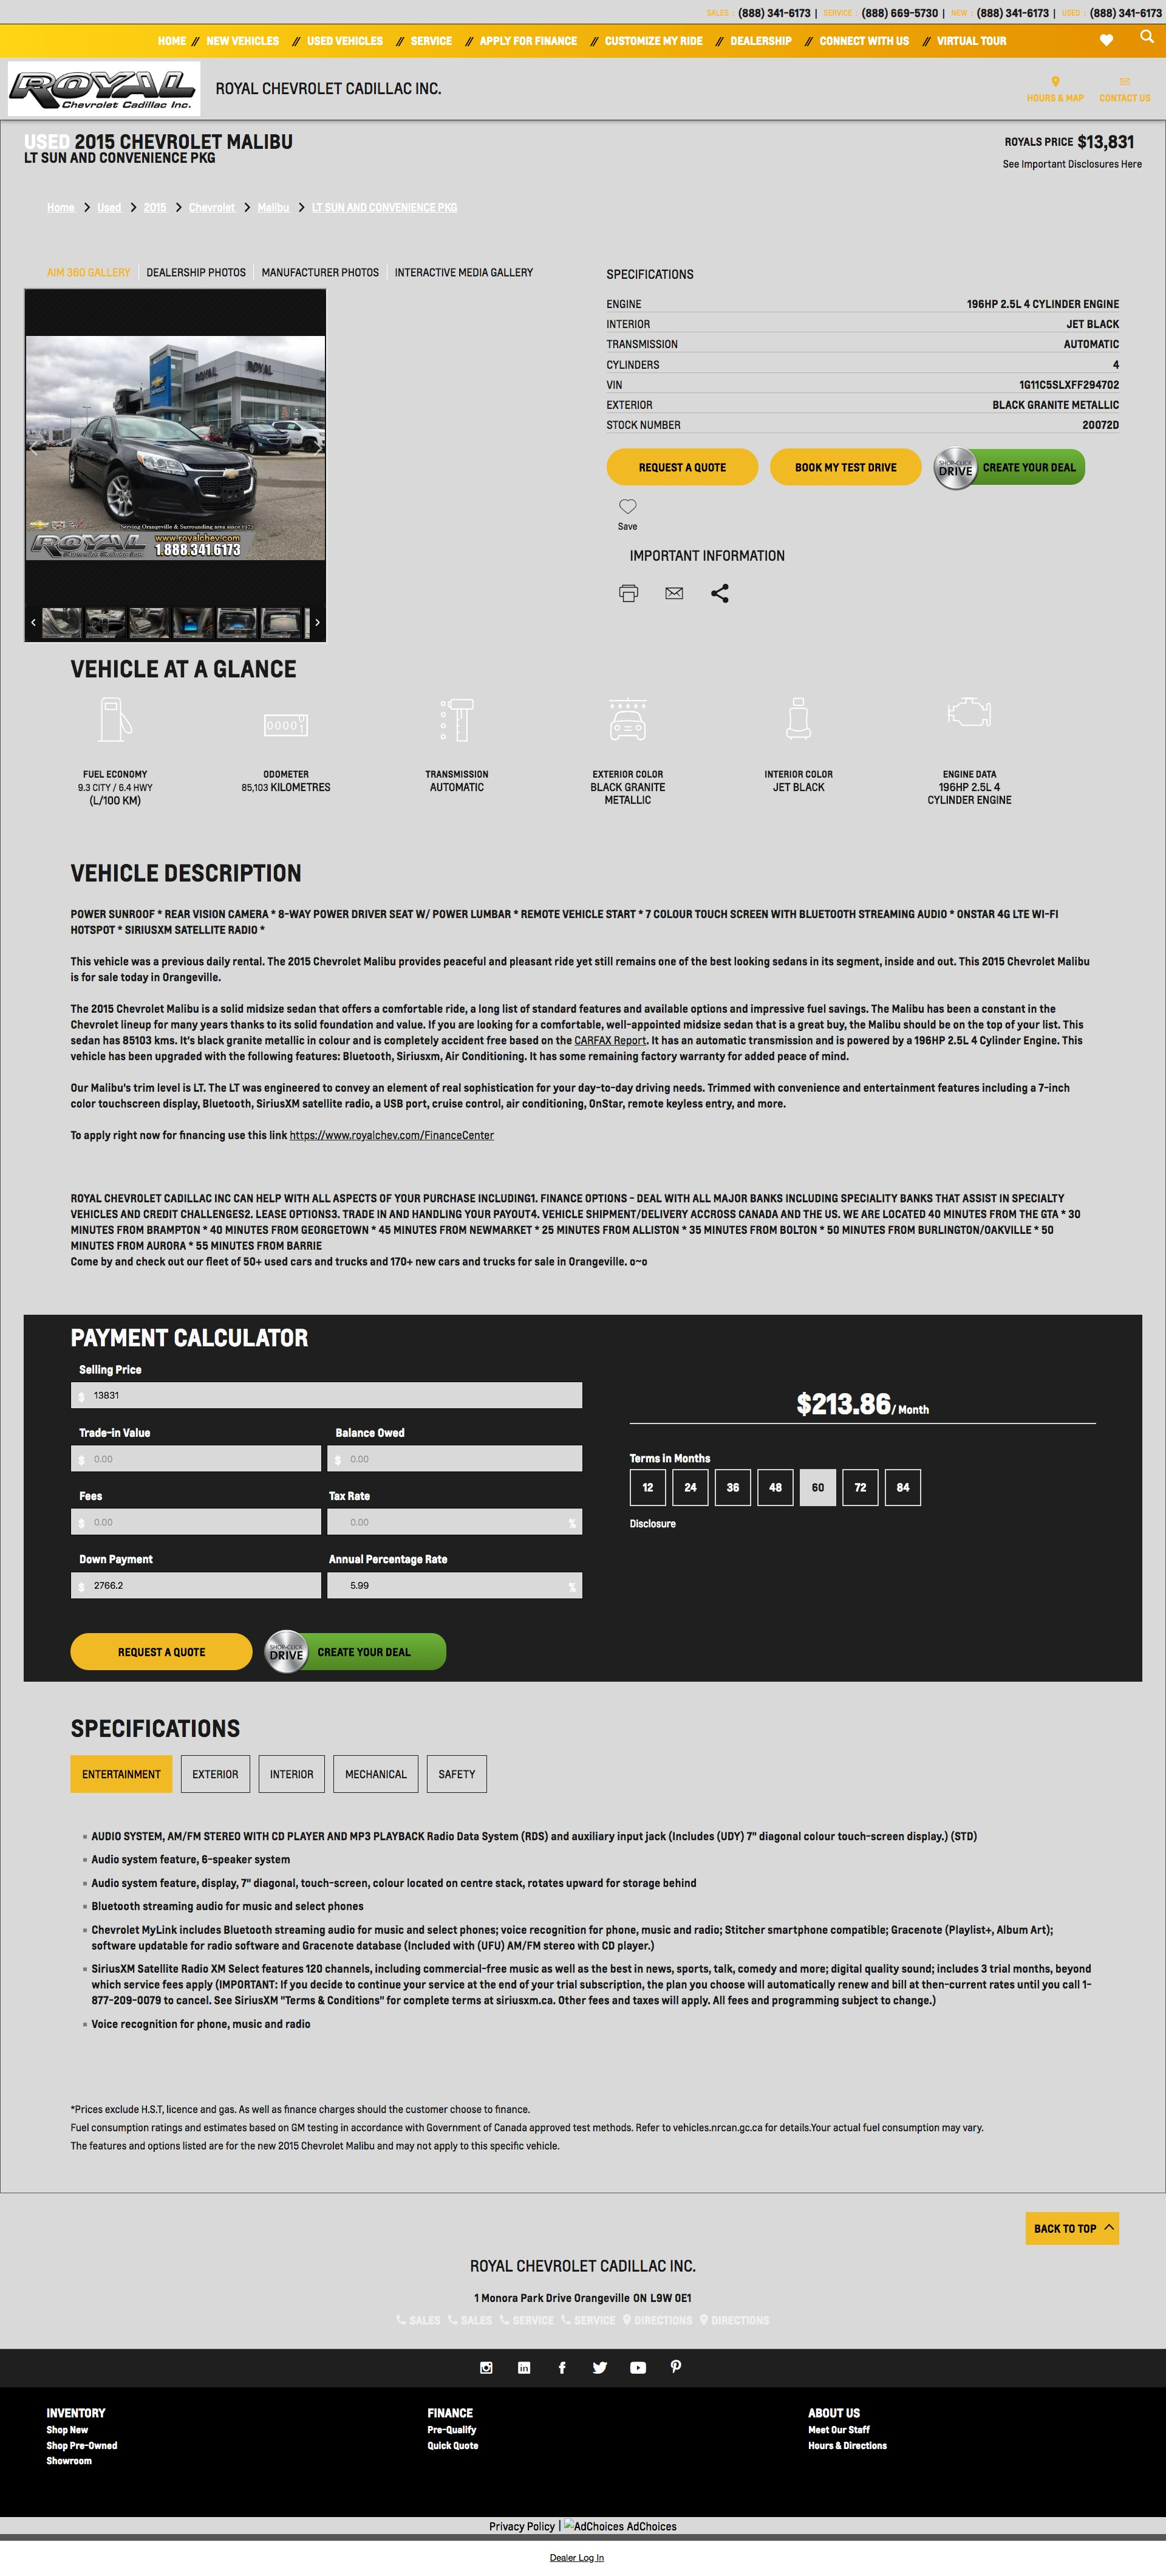car: (315, 619, 320, 628)
